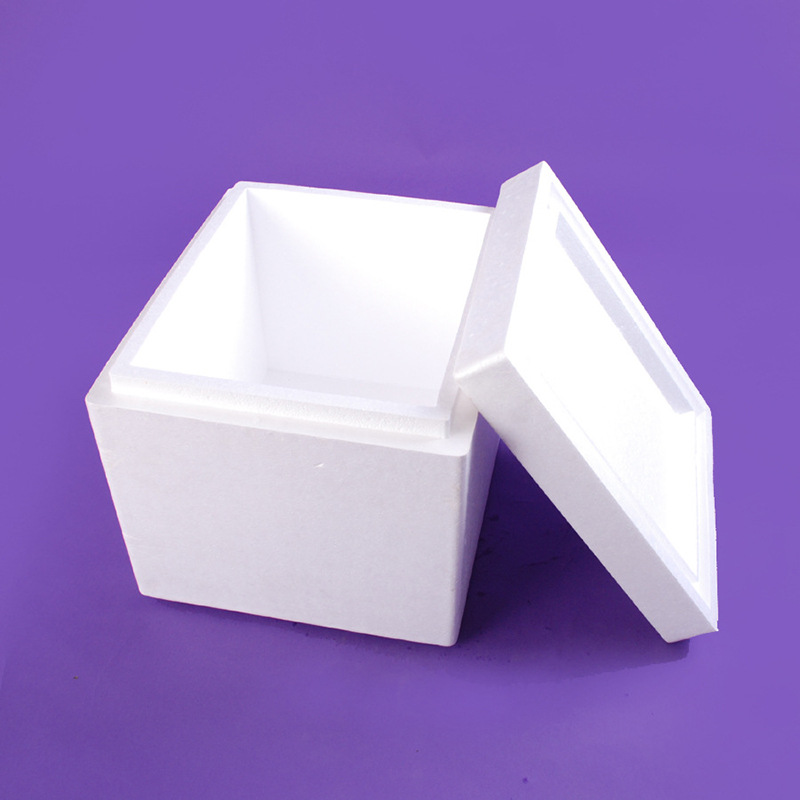泡沫箱: (87, 163, 717, 644)
